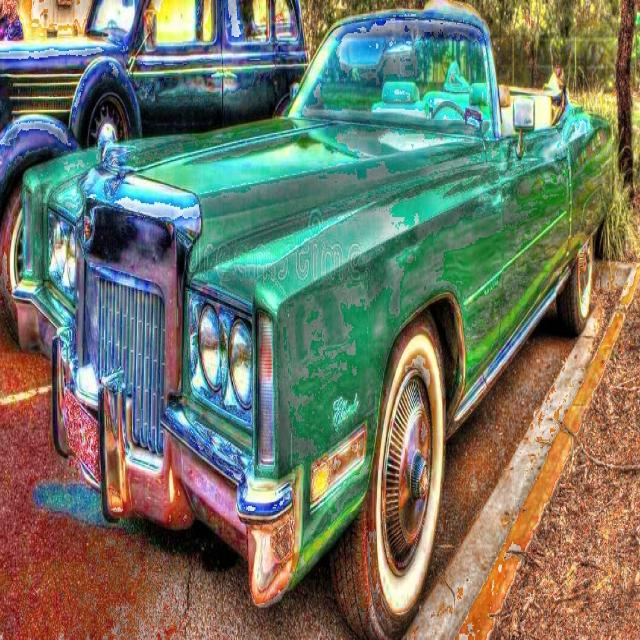green: (18, 6, 612, 640)
